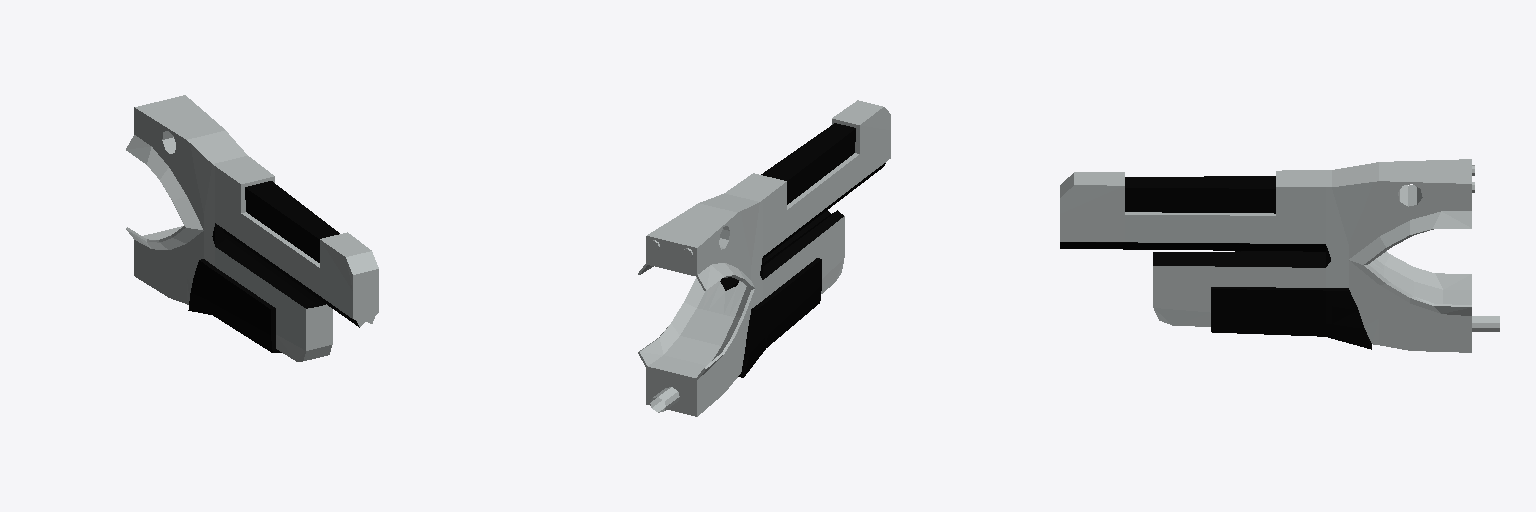
File: gun1.obj
3 views of the same model, side by side, from view 1: azimuth 30°, elevation 25°; view 2: azimuth 150°, elevation 25°; view 3: azimuth 270°, elevation 25° (orthographic).
Parts seen in each view (by area): view 1: Cube.001; view 2: Cube.001; view 3: Cube.001.
Boxes of the visible parts, <box> form: Cube.001: <box>126,95,378,361</box>; Cube.001: <box>638,100,890,416</box>; Cube.001: <box>1060,159,1499,352</box>.
Bounding box in the file's own units: 1.41 × 3.3 × 7.79.